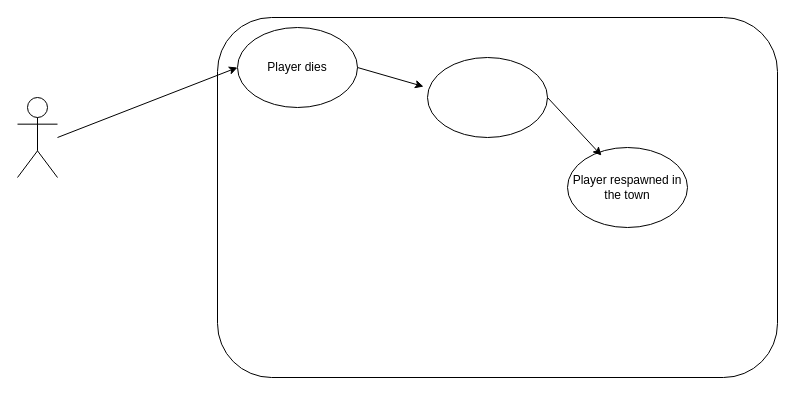
This 795x395 diagram has some shape labels left out. Here are the shapes that lost their labels. From the top down, the box of each, then its label:
(426, 56, 548, 138): Some Items from the players inventory are lost
(16, 96, 58, 178): Actor
